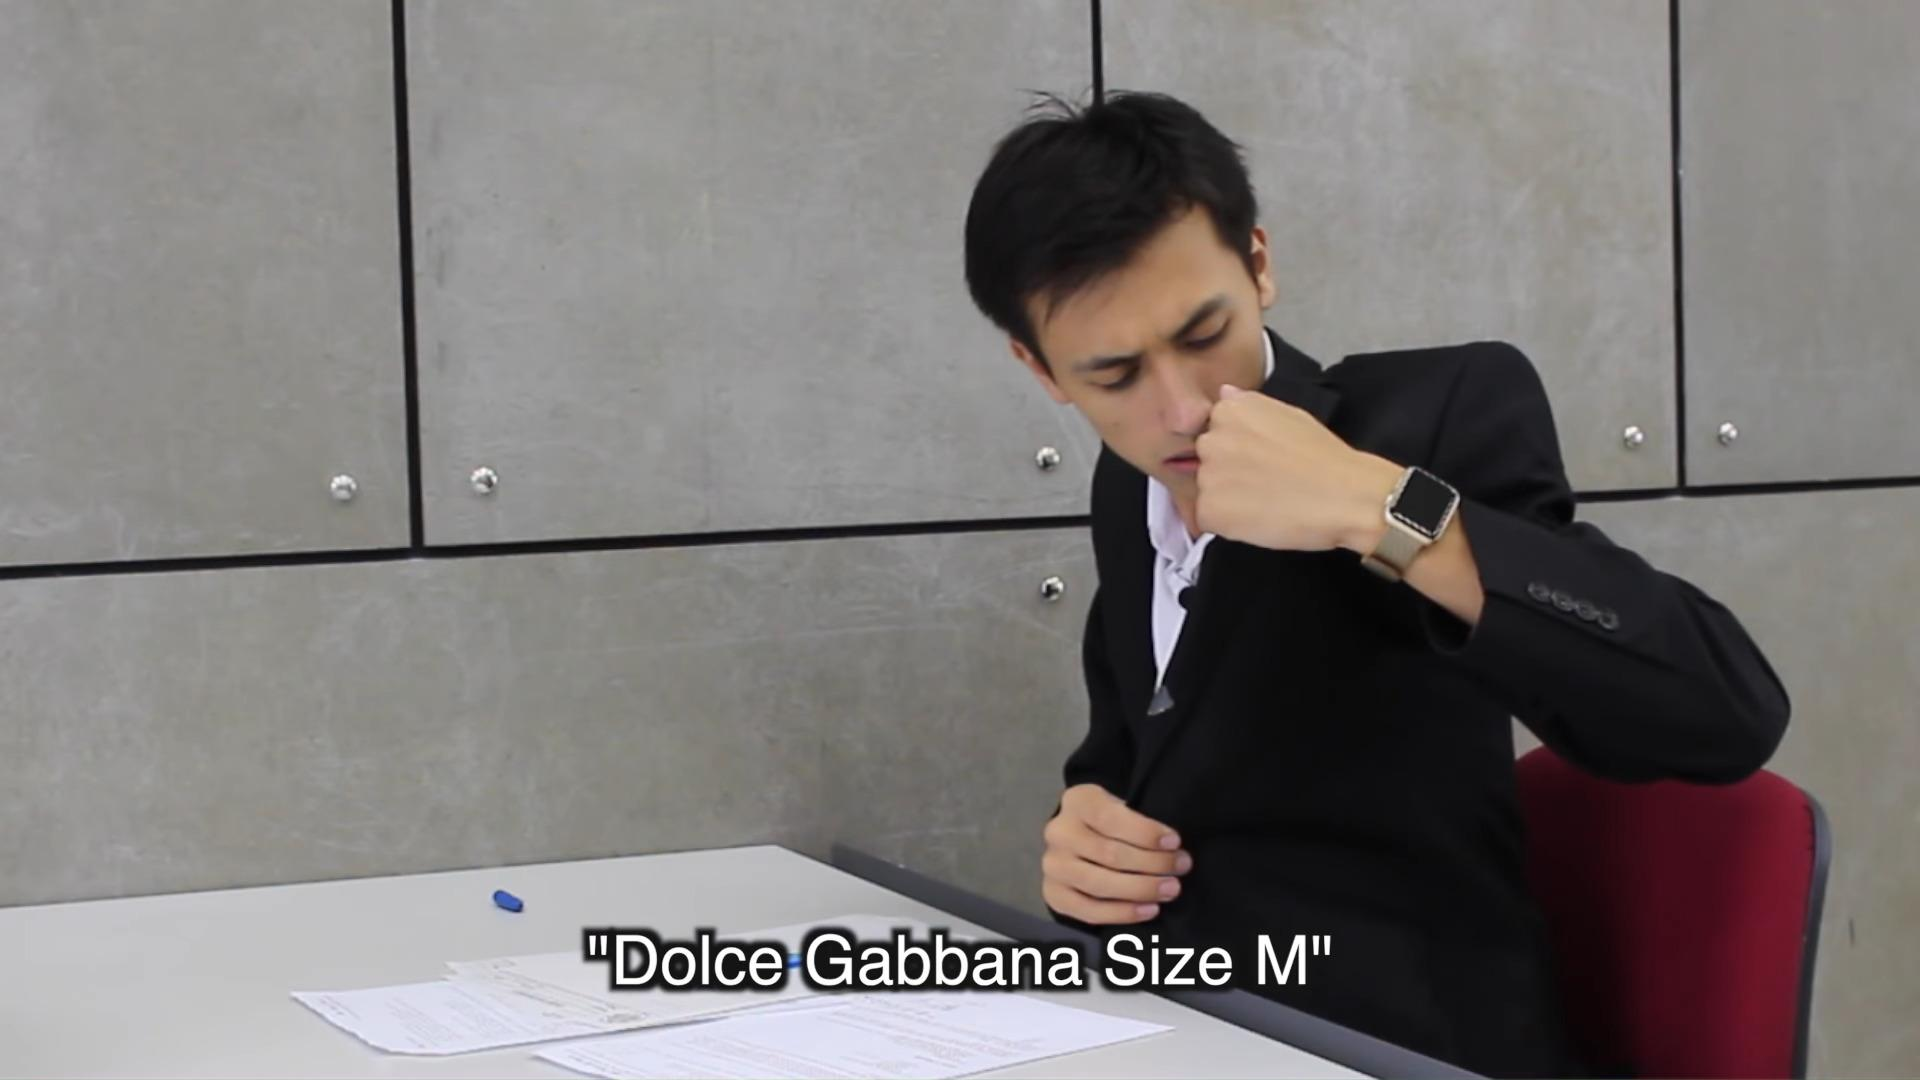cheating: (951, 70, 1811, 930)
